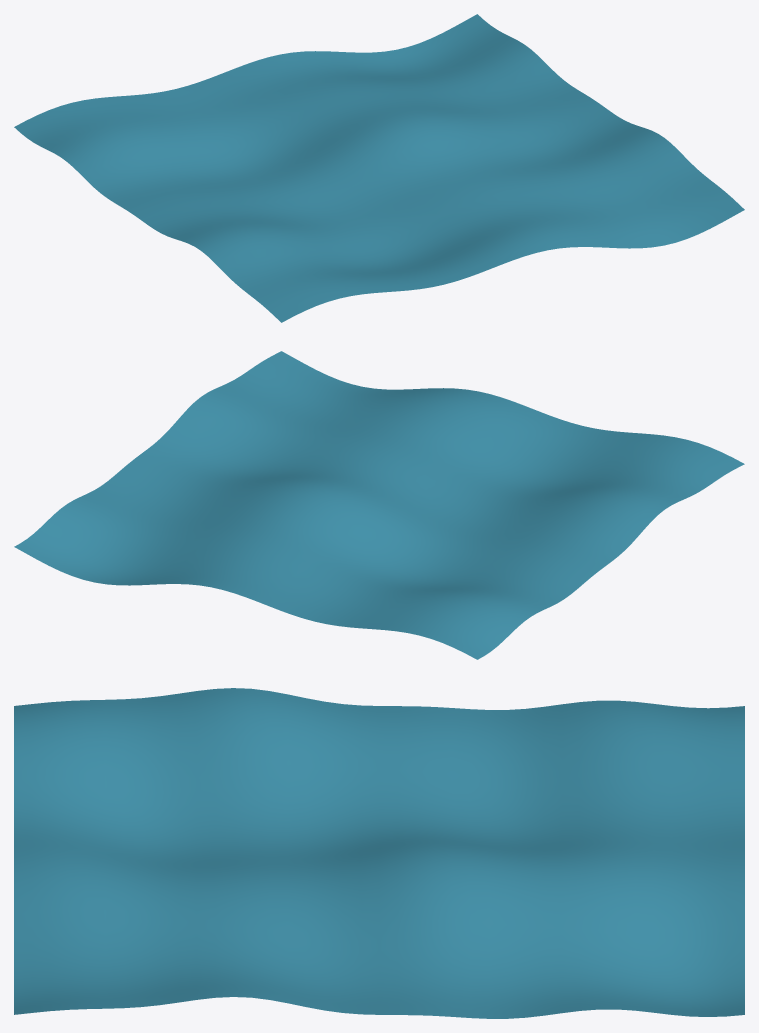
The model's file is wave_tile.glb.
3 renders of one model, top to bottom at view 1: azimuth 30°, elevation 25°; view 2: azimuth 150°, elevation 25°; view 3: azimuth 270°, elevation 25°, orthographic. The views are drawn at different scales.
Visible parts, largest first — view 1: wave_tile; view 2: wave_tile; view 3: wave_tile.
Part boxes in pixels (x1=…): wave_tile: x1=14, y1=14, x2=744, y2=322; wave_tile: x1=14, y1=351, x2=744, y2=659; wave_tile: x1=14, y1=688, x2=744, y2=1018.
Bounding box in the file's own units: 20 × 1.51 × 20.
